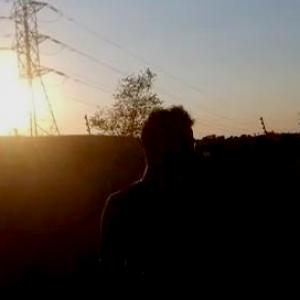follow: (96, 96, 237, 299)
